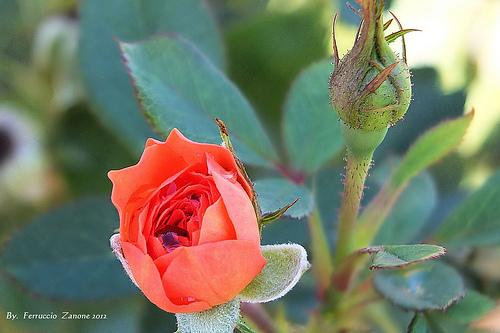Rose: (95, 120, 272, 320)
